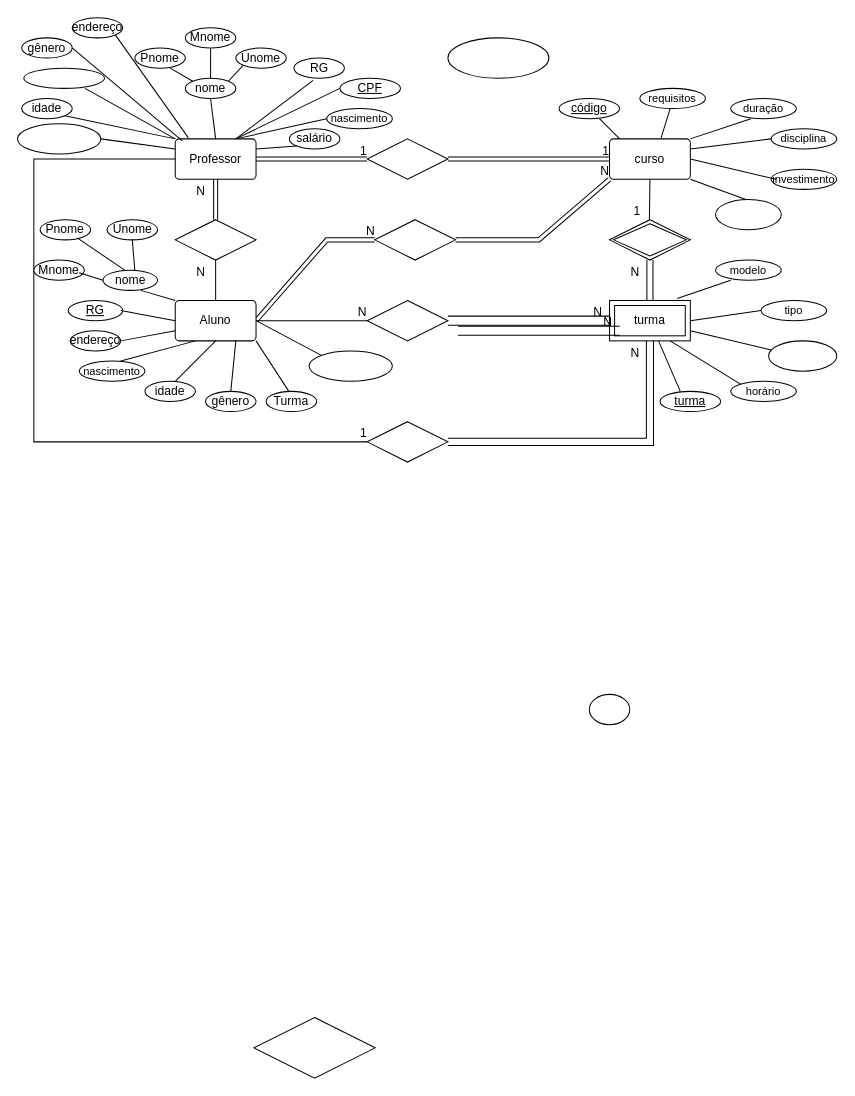
Some shapes in this 855 by 1096 pixel diagram are drawn without their labels. Here are the shapes that lost their labels. From the top down, the centre of each, then its label:
At point (64, 77): "habilidades".
At point (498, 57): "Attribute".
At point (58, 138): "disponibilidade".
At point (407, 158): "ministra".
At point (748, 214): "nível/estágio".
At point (215, 239): "Orienta".
At point (415, 239): "matricula".
At point (649, 239): "Existe".
At point (407, 320): "pertence".
At point (350, 365): "data de matrícula".
At point (802, 355): "dias da semana".
At point (407, 441): "Leciona".
At point (314, 1047): "Relationship".
